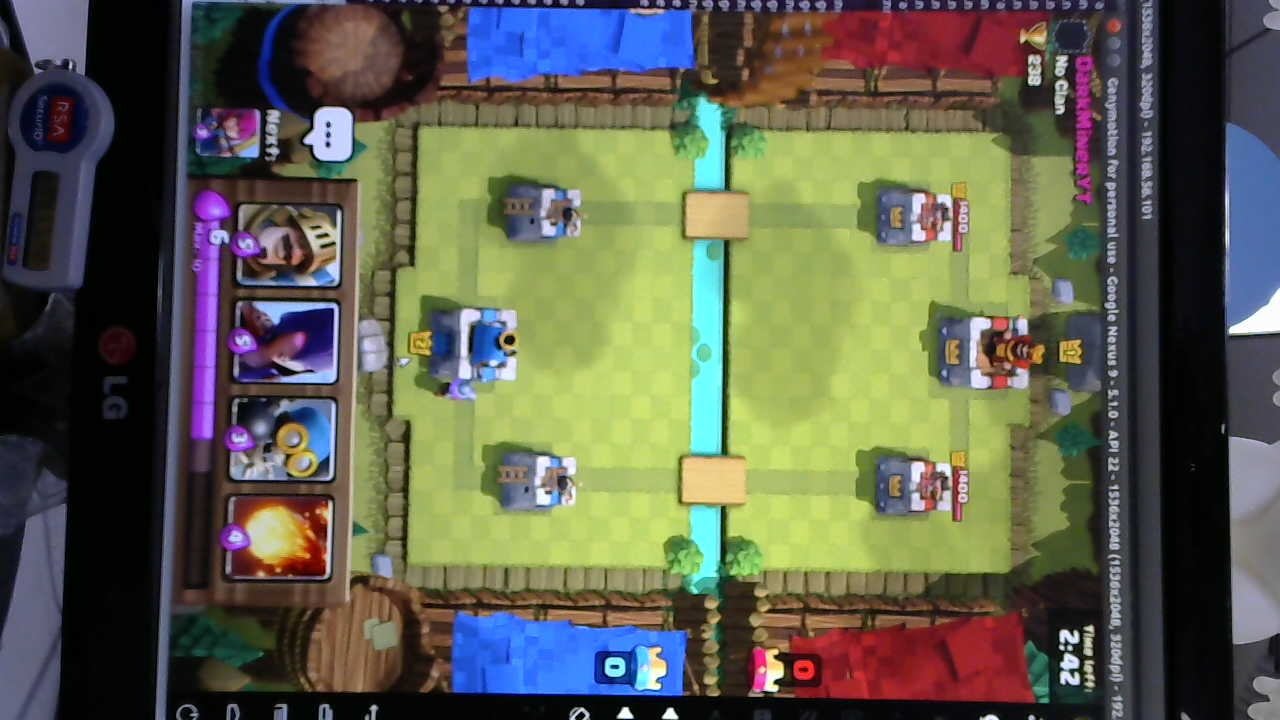arena: (498, 448, 582, 512), (507, 185, 585, 243)
earena: (877, 187, 956, 249), (873, 460, 957, 515)
eking: (940, 315, 1046, 389)
king: (436, 307, 521, 382)
musketeer: (435, 377, 475, 403)
